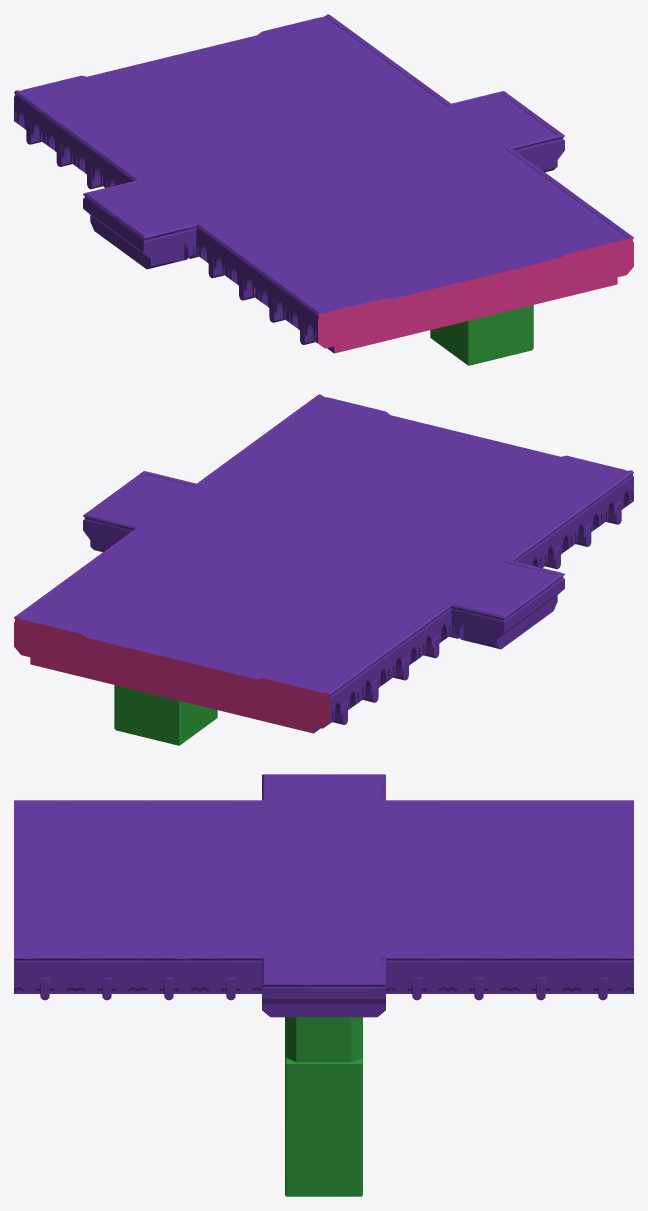
The model's file is Bridge.fbx.
3 views of the same model, one above another, from view 1: azimuth 30°, elevation 25°; view 2: azimuth 150°, elevation 25°; view 3: azimuth 270°, elevation 25° (orthographic).
Visible parts, largest first — view 1: Bridge_body_low.068, Bridge_body_low.072, Bridge_column_bottom_low0.003, Bridge_body_low.091, Bridge_body_low.089, Bridge_body_low.088, Bridge_body_low.078, Bridge_body_low.090, Bridge_body_low.077, Bridge_body_low.076, Bridge_body_low.069, Bridge_body_low.071 (+53 smaller); view 2: Bridge_body_low.077, Bridge_body_low.102, Bridge_body_low.100, Bridge_column_bottom_low0.003, Bridge_body_low.073, Bridge_body_low.087, Bridge_body_low.101, Bridge_body_low.074, Bridge_body_low.103, Bridge_body_low.076, Bridge_body_low.069, Bridge_body_low.072 (+53 smaller); view 3: Bridge_column_bottom_low0.003, Bridge_body_low.079, Bridge_body_low.083, Bridge_body_low.085, Bridge_body_low.087, Bridge_body_low.081, Bridge_body_low.078, Bridge_body_low.084, Bridge_body_low.086, Bridge_column_top_low0.003, Bridge_body_low.082, Bridge_body_low.080 (+54 smaller).
Part boxes in pixels (x1,y1,x2,y2): Bridge_body_low.068: (290, 280, 367, 353); Bridge_body_low.072: (112, 202, 213, 269); Bridge_column_bottom_low0.003: (430, 305, 533, 365); Bridge_body_low.091: (495, 229, 583, 305); Bridge_body_low.089: (392, 255, 477, 331); Bridge_body_low.088: (340, 271, 424, 345); Bridge_body_low.078: (542, 215, 633, 292); Bridge_body_low.090: (447, 244, 531, 318); Bridge_body_low.077: (14, 79, 104, 145); Bridge_body_low.076: (47, 102, 130, 172); Bridge_body_low.069: (254, 258, 339, 323); Bridge_body_low.071: (198, 211, 278, 278); Bridge_body_low.077: (277, 656, 363, 733); Bridge_body_low.102: (167, 631, 256, 714); Bridge_body_low.100: (62, 607, 149, 686); Bridge_column_bottom_low0.003: (114, 685, 217, 745); Bridge_body_low.073: (455, 584, 533, 649); Bridge_body_low.087: (14, 593, 97, 672); Bridge_body_low.101: (122, 621, 204, 697); Bridge_body_low.074: (361, 591, 460, 658); Bridge_body_low.103: (238, 648, 305, 724); Bridge_body_low.076: (306, 636, 395, 702); Bridge_body_low.069: (521, 481, 606, 547); Bridge_body_low.072: (481, 558, 564, 630); Bridge_column_bottom_low0.003: (285, 1057, 362, 1196); Bridge_body_low.079: (72, 928, 150, 1000); Bridge_body_low.083: (312, 946, 393, 1017); Bridge_body_low.085: (439, 930, 514, 1000); Bridge_body_low.087: (568, 930, 633, 1000); Bridge_body_low.081: (188, 932, 259, 1000); Bridge_body_low.078: (14, 928, 79, 1000); Bridge_body_low.084: (379, 927, 459, 1000); Bridge_body_low.086: (509, 932, 569, 1000); Bridge_column_top_low0.003: (285, 1017, 362, 1062); Bridge_body_low.082: (262, 955, 334, 1017); Bridge_body_low.080: (141, 931, 207, 1000).
Size of the model in its own units: 800 by 399 by 1000.
